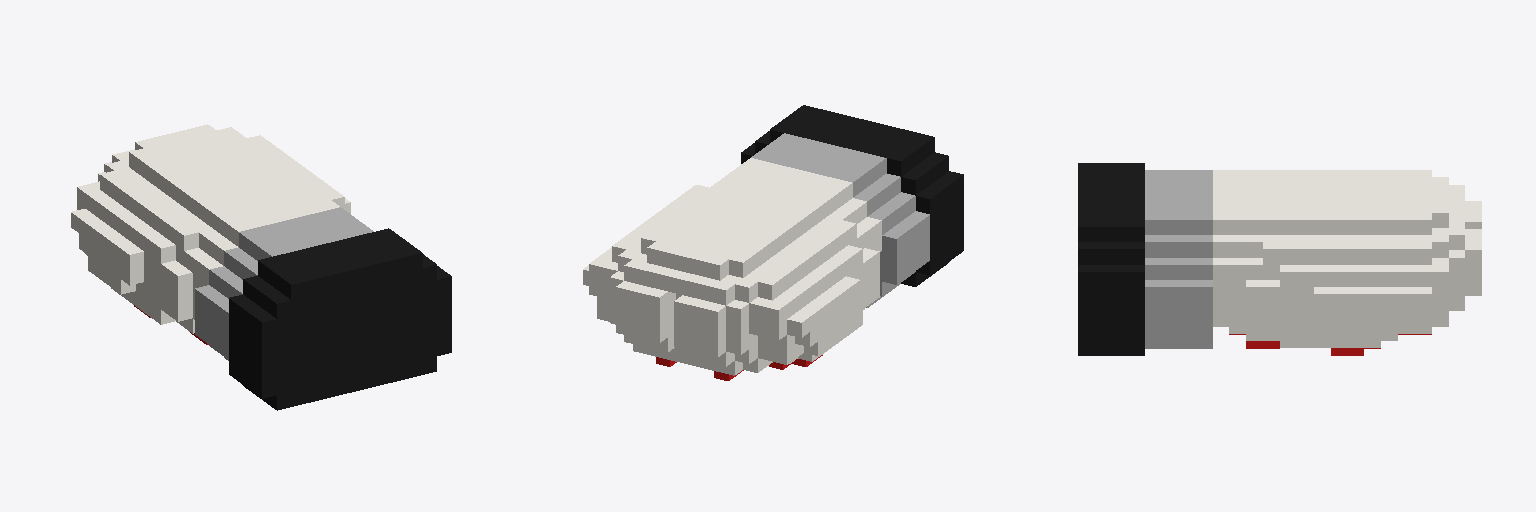
3 renders of one model, left to right at view 1: azimuth 30°, elevation 25°; view 2: azimuth 150°, elevation 25°; view 3: azimuth 270°, elevation 25°, orthographic.
Bounding box in the file's own units: 15 × 8 × 24.
Materials: 1 (1 with a texture image).